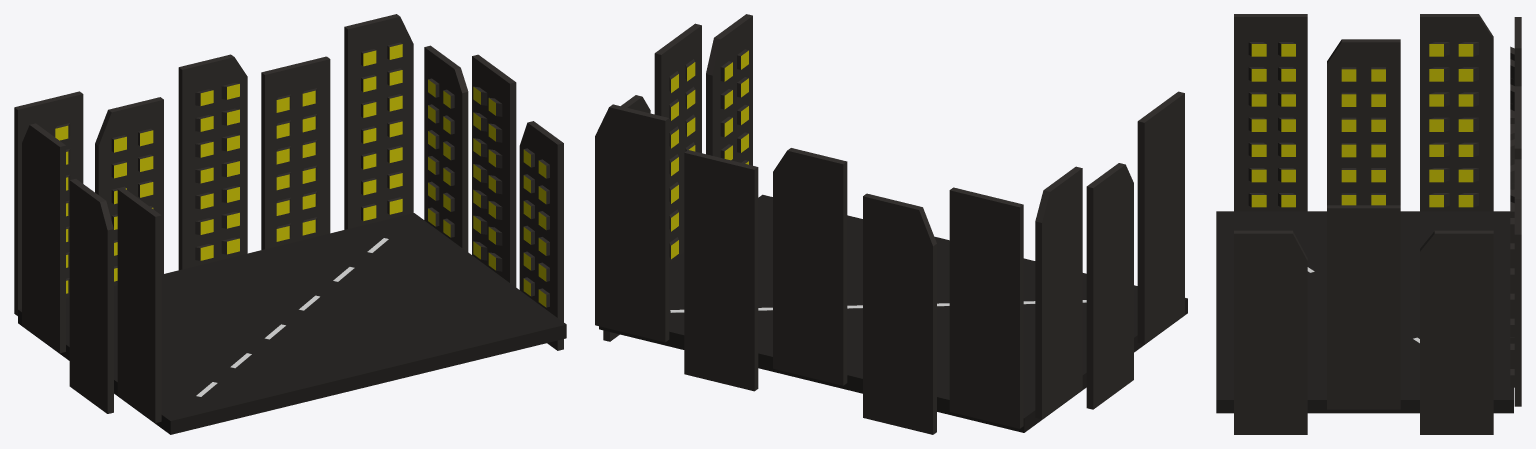
The model's file is mp_stage.gltf.
3 views of the same model, side by side, from view 1: azimuth 30°, elevation 25°; view 2: azimuth 150°, elevation 25°; view 3: azimuth 270°, elevation 25° (orthographic). The views are drawn at different scales.
Parts seen in each view (by area): view 1: Cube, Cube.001, Cube.003, Cube.002, Cube.009, Cube.008, Cube.011, Cube.007, Cube.012, Cube.010, Cube.004, Cube.005 (+1 smaller); view 2: Cube.002, Cube.005, Cube.001, Cube.003, Cube.004, Cube, Cube.009, Cube.007, Cube.008, Cube.011, Cube.012; view 3: Cube, Cube.011, Cube.010, Cube.012, Cube.009, Cube.007, Cube.008, Cube.003, Cube.005, Cube.001.
Boxes of the visible parts, bbox=[...] form: Cube: bbox=[18, 213, 566, 434]; Cube.001: bbox=[178, 54, 247, 270]; Cube.003: bbox=[344, 14, 413, 229]; Cube.002: bbox=[261, 56, 330, 249]; Cube.009: bbox=[117, 187, 161, 422]; Cube.008: bbox=[69, 179, 113, 413]; Cube.011: bbox=[472, 54, 516, 286]; Cube.007: bbox=[22, 123, 65, 353]; Cube.012: bbox=[519, 121, 563, 350]; Cube.010: bbox=[424, 45, 468, 251]; Cube.004: bbox=[95, 97, 163, 285]; Cube.005: bbox=[14, 91, 83, 315]; Cube.002: bbox=[684, 150, 758, 391]; Cube.005: bbox=[949, 187, 1023, 428]; Cube.001: bbox=[773, 148, 847, 385]; Cube.003: bbox=[595, 104, 669, 342]; Cube.004: bbox=[863, 193, 936, 434]; Cube: bbox=[599, 194, 1187, 432]; Cube.009: bbox=[1137, 91, 1184, 344]; Cube.007: bbox=[1035, 166, 1082, 419]; Cube.008: bbox=[1086, 163, 1133, 409]; Cube.011: bbox=[654, 23, 701, 262]; Cube.012: bbox=[706, 14, 752, 165]; Cube: bbox=[1216, 211, 1513, 413]; Cube.011: bbox=[1327, 205, 1400, 409]; Cube.010: bbox=[1420, 230, 1493, 434]; Cube.012: bbox=[1234, 230, 1307, 434]; Cube.009: bbox=[1234, 14, 1307, 211]; Cube.007: bbox=[1420, 14, 1493, 211]; Cube.008: bbox=[1327, 39, 1400, 205]; Cube.003: bbox=[1510, 174, 1521, 406]; Cube.005: bbox=[1510, 17, 1521, 111]; Cube.001: bbox=[1510, 95, 1521, 190].
Bounding box in the file's own units: 12.38 × 6.72 × 8.21.
